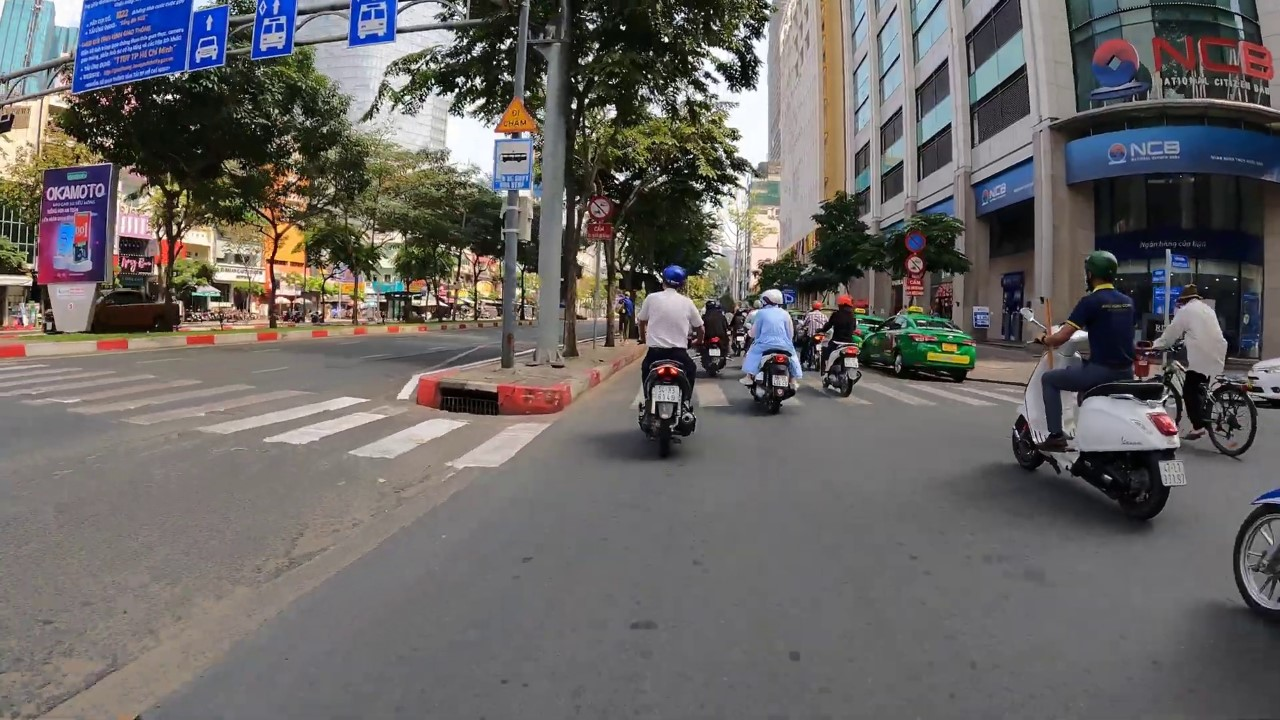cam_do_xe: (905, 231, 926, 254)
di_cham: (493, 92, 538, 133)
